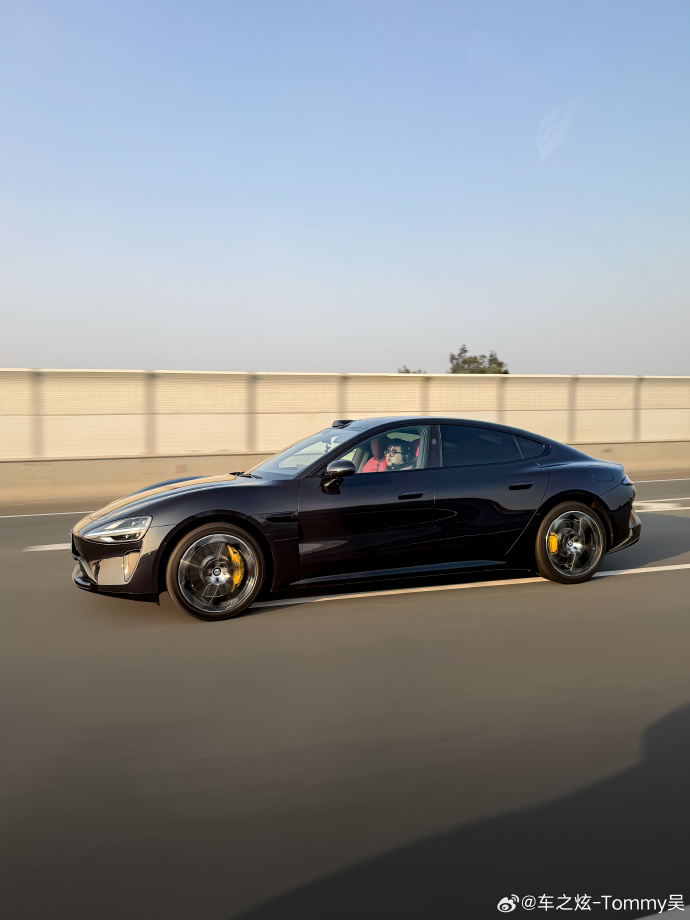other: (68, 415, 646, 627)
